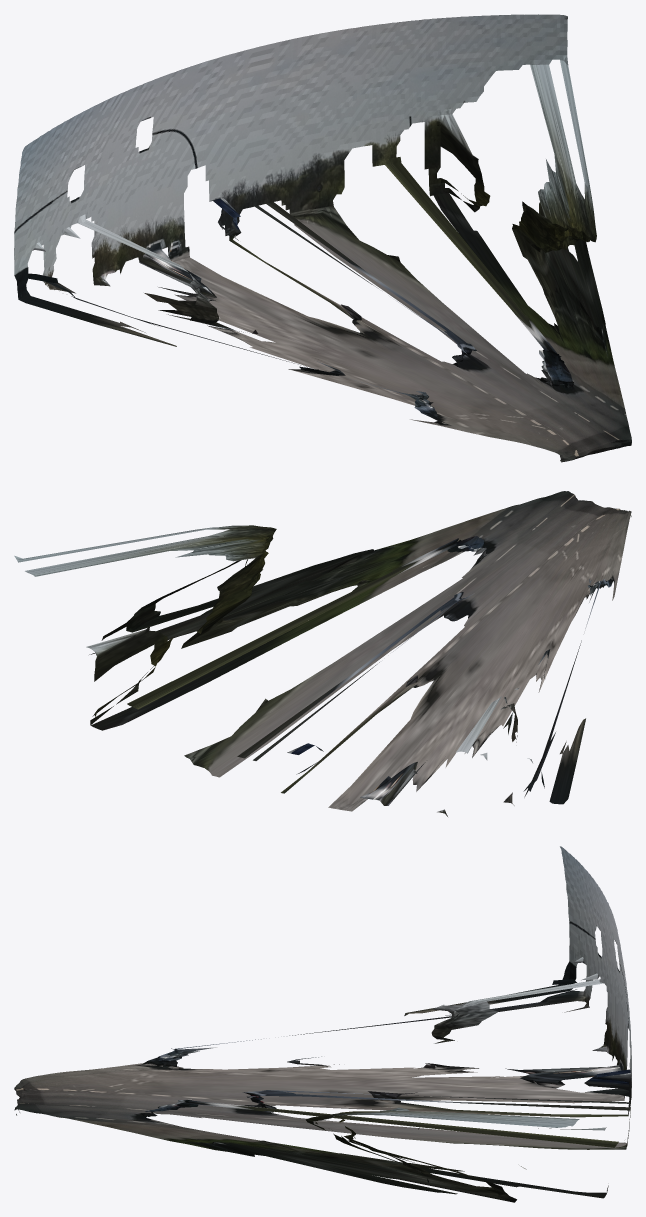
3 views of the same model, one above another, from view 1: azimuth 30°, elevation 25°; view 2: azimuth 150°, elevation 25°; view 3: azimuth 270°, elevation 25° (orthographic). The views are drawn at different scales.
Visible parts, largest first — view 1: defaultobject; view 2: defaultobject; view 3: defaultobject.
Boxes of the visible parts, x1,y1,x2,y2 form: defaultobject: [14, 14, 631, 462]; defaultobject: [14, 491, 631, 816]; defaultobject: [14, 846, 631, 1202].
Size of the model in its own units: 41.03 by 14.19 by 44.32.
Materials: 1 (1 with a texture image).
